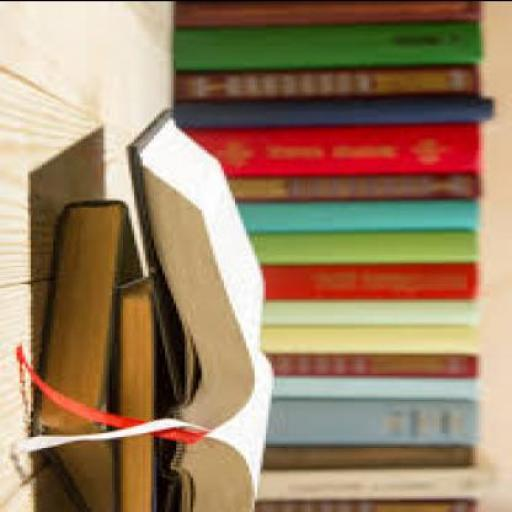paper: (129, 108, 277, 510), (145, 106, 266, 432), (36, 200, 142, 510), (170, 352, 274, 510), (182, 119, 484, 173), (179, 18, 484, 68), (178, 60, 482, 96), (272, 396, 480, 446), (121, 276, 165, 510), (176, 97, 496, 127), (260, 462, 496, 500), (244, 196, 481, 230), (176, 0, 484, 25), (252, 227, 482, 260), (266, 259, 481, 294), (235, 170, 481, 197), (266, 322, 481, 350), (269, 296, 478, 324), (277, 372, 481, 397), (274, 352, 482, 374), (266, 443, 475, 464), (255, 497, 481, 510)
